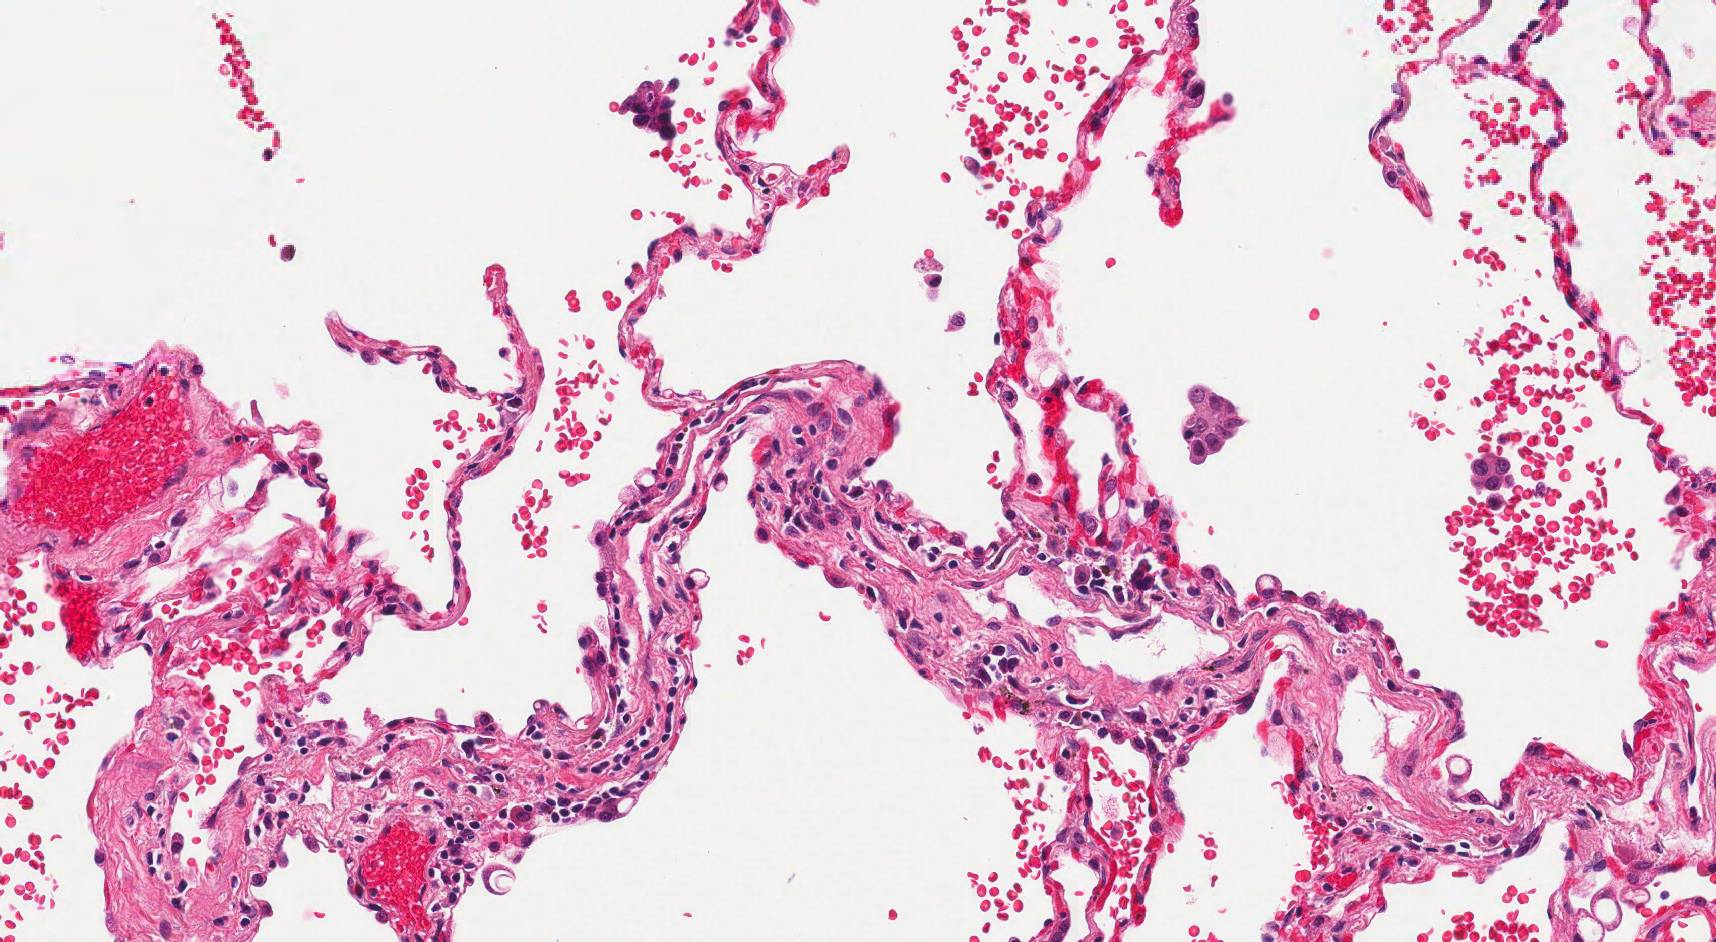stas: (1178, 384, 1249, 465), (618, 76, 679, 139), (1467, 452, 1516, 510)
